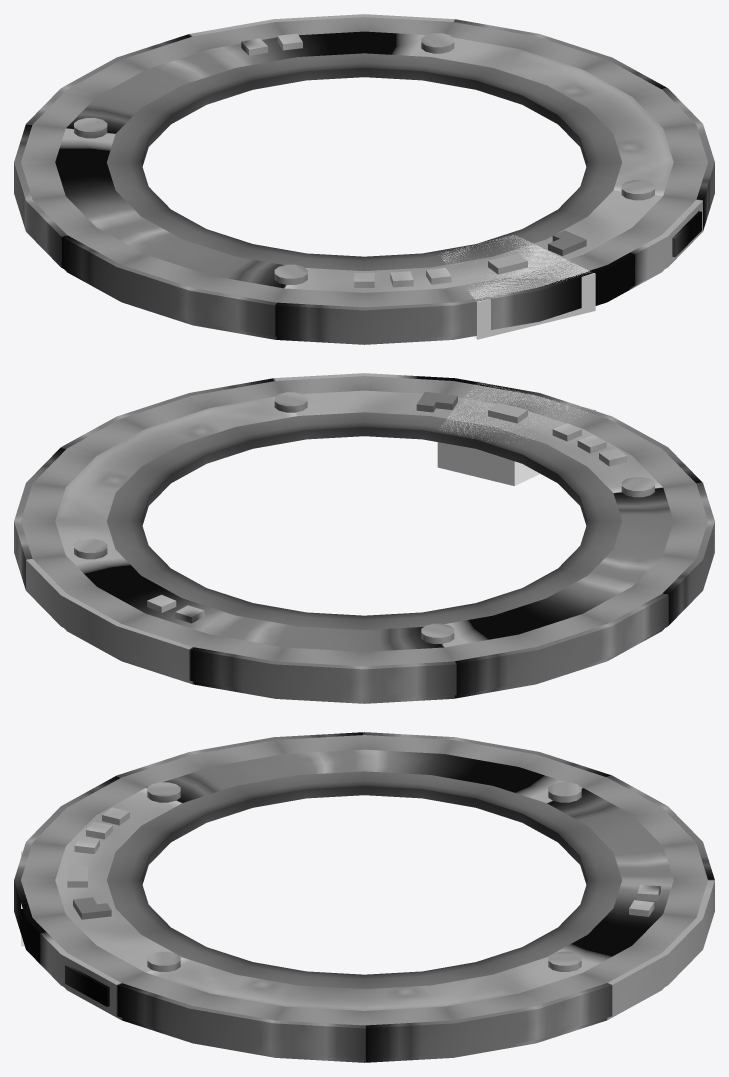
File: avionics.fbx
The picture shows the model from 3 angles, top to bottom: view 1: azimuth 30°, elevation 25°; view 2: azimuth 150°, elevation 25°; view 3: azimuth 270°, elevation 25°; orthographic projection.
Parts seen in each view (by area): view 1: mesh, c_1; view 2: mesh, c_1; view 3: mesh.
Boxes of the visible parts, x1,y1,x2,y2 form: mesh: (14,14,714,344); c_1: (439,235,595,339); mesh: (14,373,714,703); c_1: (437,381,595,486); mesh: (14,732,714,1062).
Bounding box in the file's own units: 2.55 × 0.175 × 2.55.
